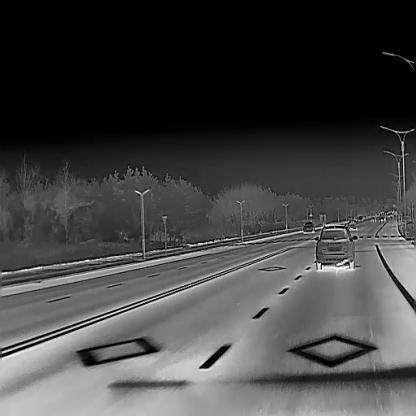car: (314, 223, 357, 269), (302, 221, 314, 232), (347, 219, 358, 229), (371, 215, 375, 221), (380, 217, 384, 221)
